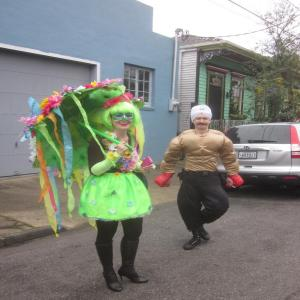Vehicle-registration-plate: (239, 149, 259, 160)
